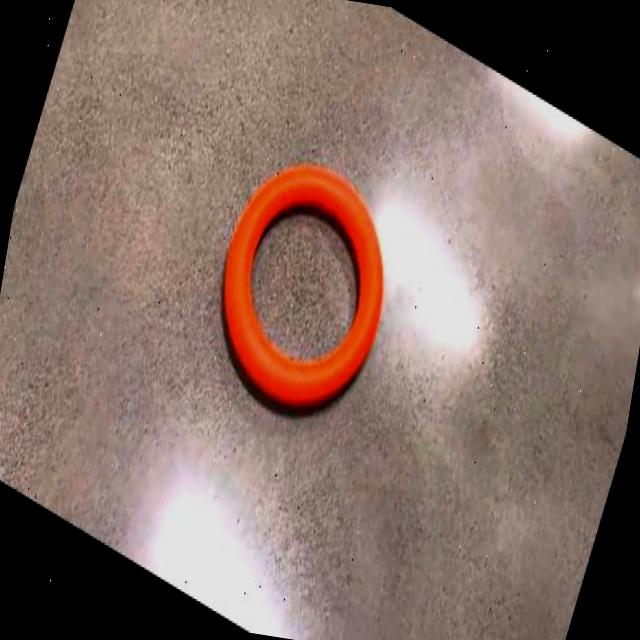note: (0, 0, 640, 640), (224, 166, 384, 406)
